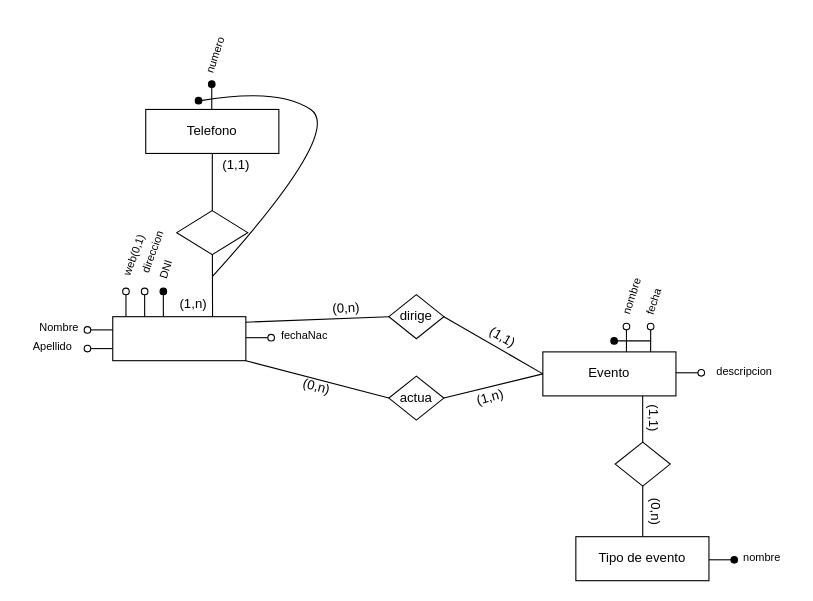
The diagram is 813 pixels wide and 601 high, and some of its shapes have lost their labels. The box of each missing label's shape, as (x1, y1, x2, y2) in pixels:
art_tel: (176, 210, 248, 255)
Artista: (112, 316, 246, 361)
tiene: (614, 441, 670, 486)
